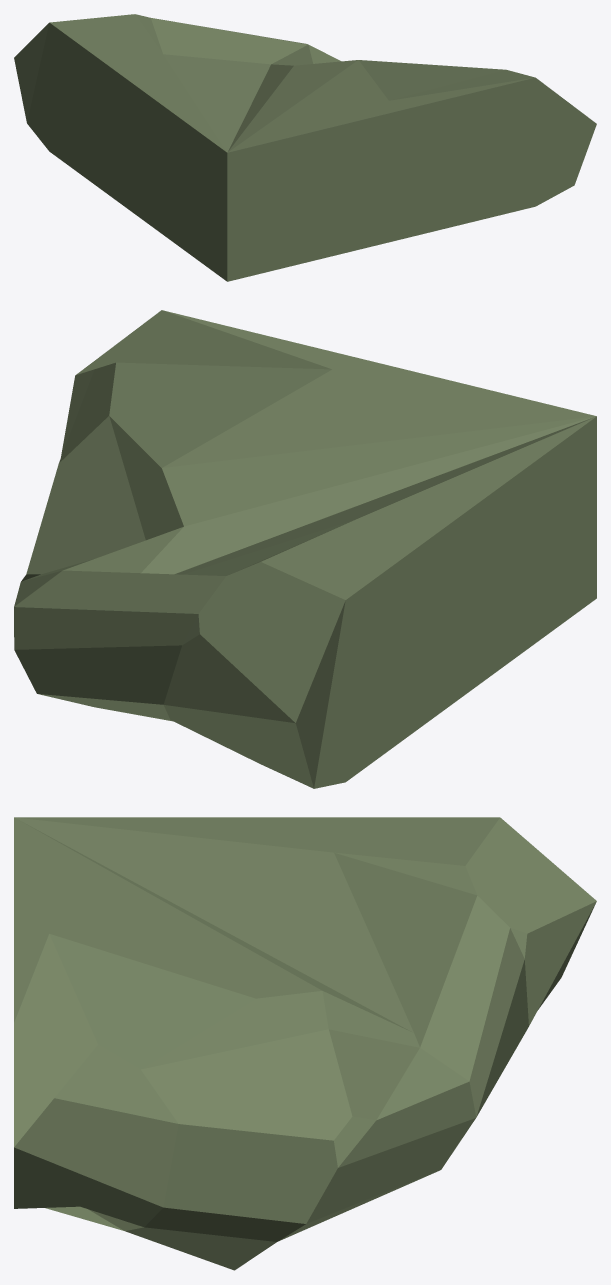
Rendered from LightVegetationEdgeLargeExternalCurve2.fbx.
The picture shows the model from 3 angles, top to bottom: view 1: azimuth 30°, elevation 25°; view 2: azimuth 150°, elevation 25°; view 3: azimuth 270°, elevation 25°; orthographic projection. The views are drawn at different scales.
Visible parts, largest first — view 1: LightVegetationEdgeEdgeLargeExternalCurve2; view 2: LightVegetationEdgeEdgeLargeExternalCurve2; view 3: LightVegetationEdgeEdgeLargeExternalCurve2.
Boxes of the visible parts, <box> form: LightVegetationEdgeEdgeLargeExternalCurve2: <box>14,14,596,281</box>; LightVegetationEdgeEdgeLargeExternalCurve2: <box>14,310,596,788</box>; LightVegetationEdgeEdgeLargeExternalCurve2: <box>14,817,596,1270</box>.
Bounding box in the file's own units: 599 × 307 × 600.
